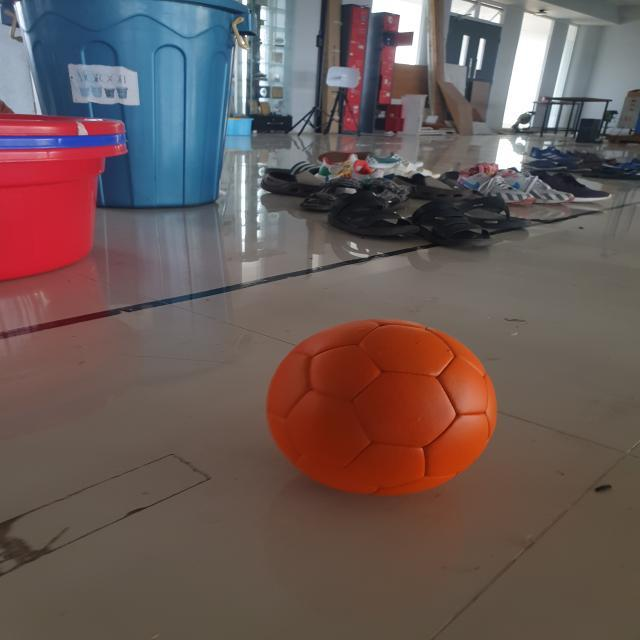bola: (262, 316, 504, 507)
